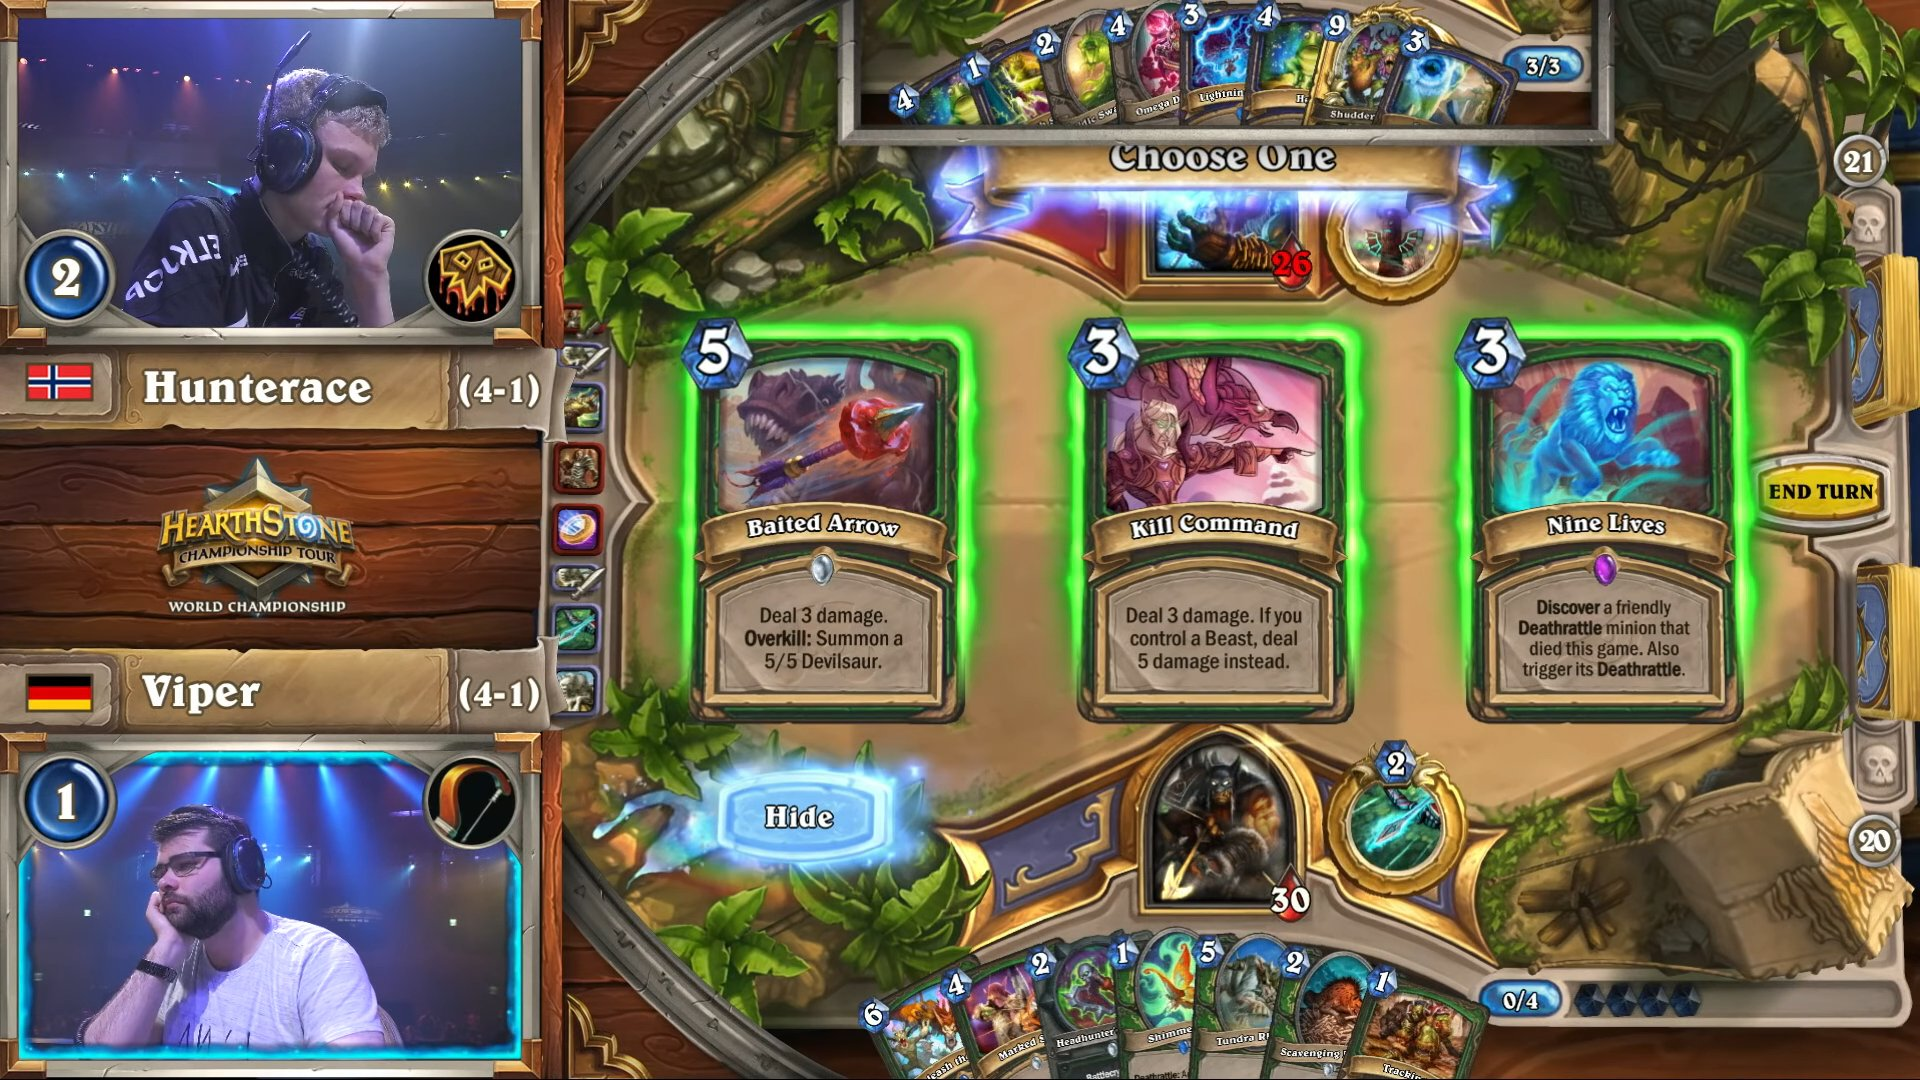card: (676, 311, 976, 732), (1062, 311, 1361, 732), (1453, 305, 1753, 725), (1342, 967, 1485, 1080), (1259, 943, 1369, 1080), (1371, 26, 1515, 128), (1189, 932, 1282, 1080), (1026, 926, 1114, 1080), (1112, 926, 1200, 1080), (945, 944, 1033, 1080), (1240, 3, 1324, 133), (856, 963, 949, 1080), (1305, 7, 1394, 131), (1100, 1, 1184, 131), (1178, 1, 1261, 131), (1033, 9, 1106, 133), (963, 32, 1036, 132), (887, 50, 971, 131)
